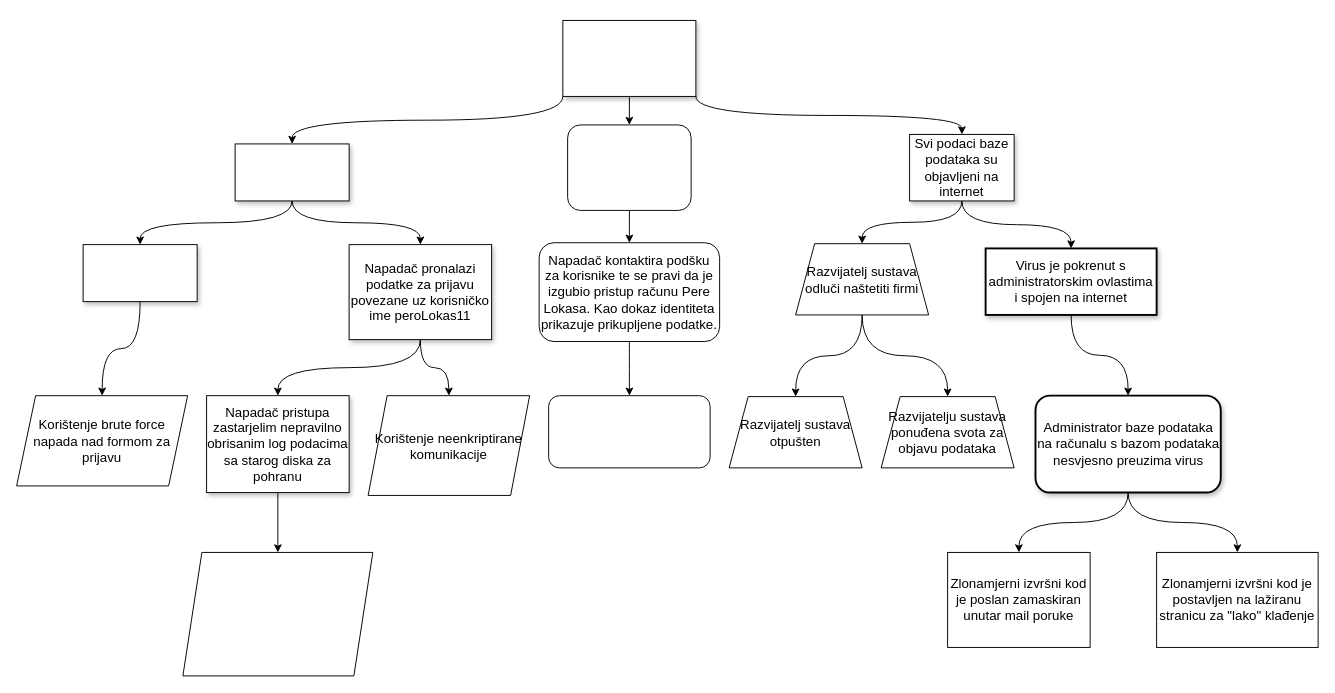
Image size: 1335x693. Some labels were removed from this diagram. The shapes that lost their labels are listed below. From the top down, each one's centre as x and y in pixels, then its label:
the point at 630,59: Ukradeni podatci o konkretnoj osobi zvanoj "Pero Lokas"
the point at 292,173: Napadač se prijavi s podacima za prijavu
the point at 629,167: Podrška za korisnike je prevarena i daje ostatak privatnih podataka napadaču
the point at 140,274: Napadač uspješno probije šifru
the point at 629,431: Napadač promatra socijalne mreže Pere Lokasa i sakuplja podatke
the point at 277,613: Neispravno logiranje podataka o prijavi korisnika
